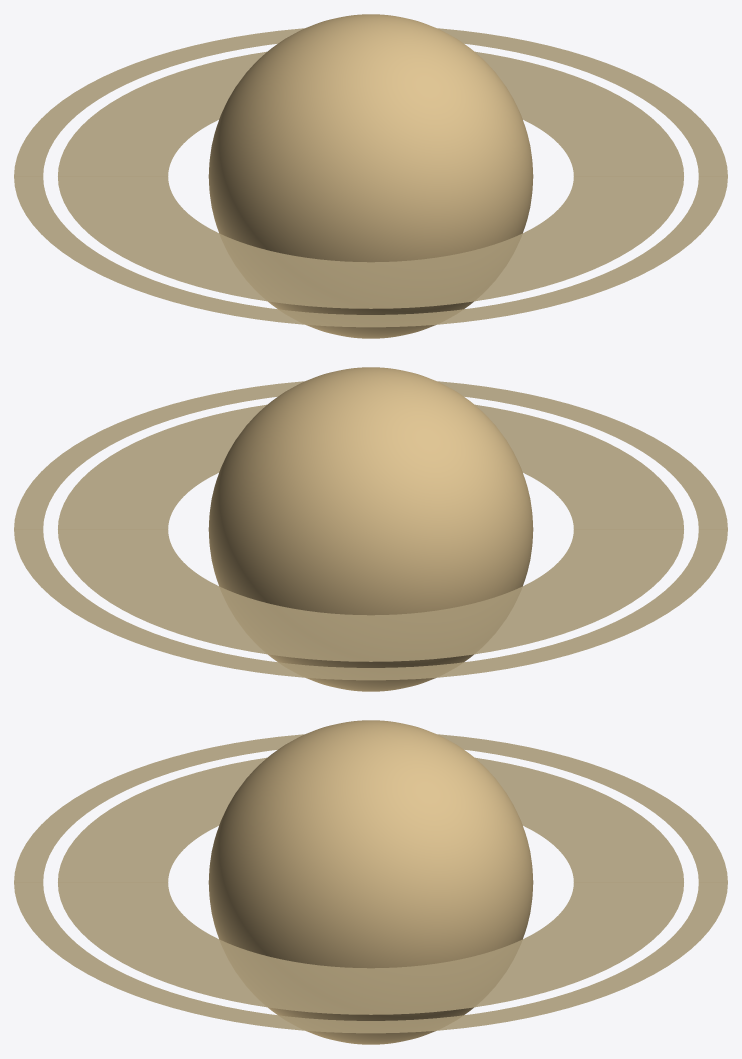
The model's file is Planet_Saturn.glb.
3 views of the same model, one above another, from view 1: azimuth 30°, elevation 25°; view 2: azimuth 150°, elevation 25°; view 3: azimuth 270°, elevation 25° (orthographic).
Parts seen in each view (by area): view 1: Planet_Saturn, Planet_Saturn_Ring_Main, Planet_Saturn_Ring_Outer, Planet_Saturn_Ring_Inner; view 2: Planet_Saturn, Planet_Saturn_Ring_Main, Planet_Saturn_Ring_Outer, Planet_Saturn_Ring_Inner; view 3: Planet_Saturn, Planet_Saturn_Ring_Main, Planet_Saturn_Ring_Outer, Planet_Saturn_Ring_Inner.
Boxes of the visible parts, bbox=[...] form: Planet_Saturn: bbox=[208, 14, 533, 338]; Planet_Saturn_Ring_Main: bbox=[58, 51, 683, 308]; Planet_Saturn_Ring_Outer: bbox=[14, 28, 727, 327]; Planet_Saturn_Ring_Inner: bbox=[122, 89, 619, 281]; Planet_Saturn: bbox=[208, 367, 533, 691]; Planet_Saturn_Ring_Main: bbox=[58, 404, 683, 661]; Planet_Saturn_Ring_Outer: bbox=[14, 381, 727, 680]; Planet_Saturn_Ring_Inner: bbox=[122, 442, 619, 634]; Planet_Saturn: bbox=[208, 720, 533, 1044]; Planet_Saturn_Ring_Main: bbox=[58, 757, 683, 1014]; Planet_Saturn_Ring_Outer: bbox=[14, 734, 727, 1033]; Planet_Saturn_Ring_Inner: bbox=[122, 795, 619, 987].
Size of the model in its own units: 4.4 by 2 by 4.4.
